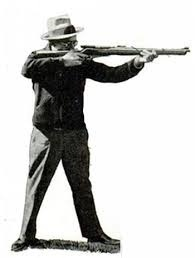pistol: (56, 43, 193, 78)
